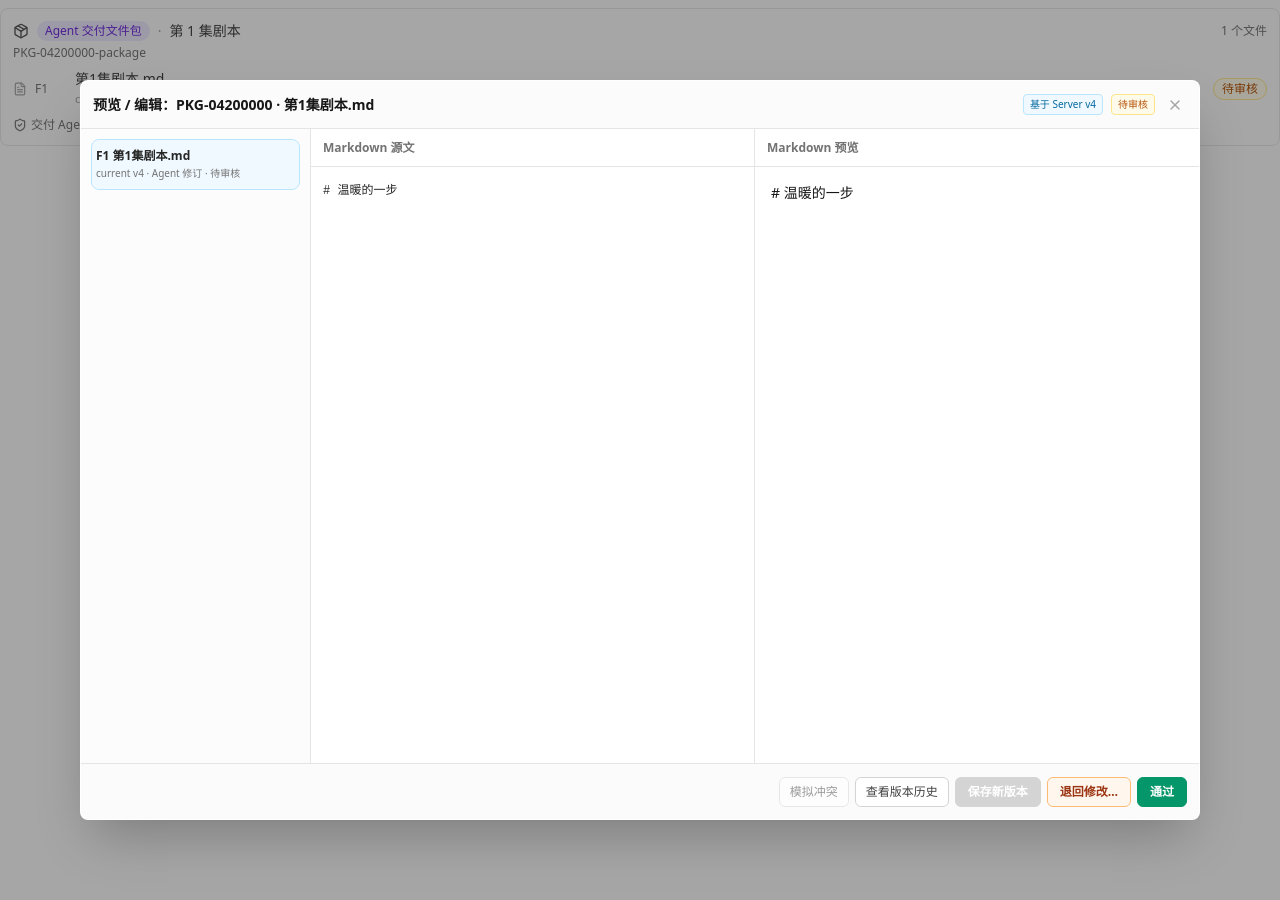
OutputPackagePreviewModal 原型收敛 › 讨论串浮窗审核完成并关闭后，文件包卡片同步显示最新审核状态
expect the text box named "Markdown 源文" is shown: met, box [311,167,754,763]
expect the text "待审核" below "个文件" is shown: met, box [1222,80,1258,97]
Click the button "通过" at (1162, 792), box [1137,776,1187,806]
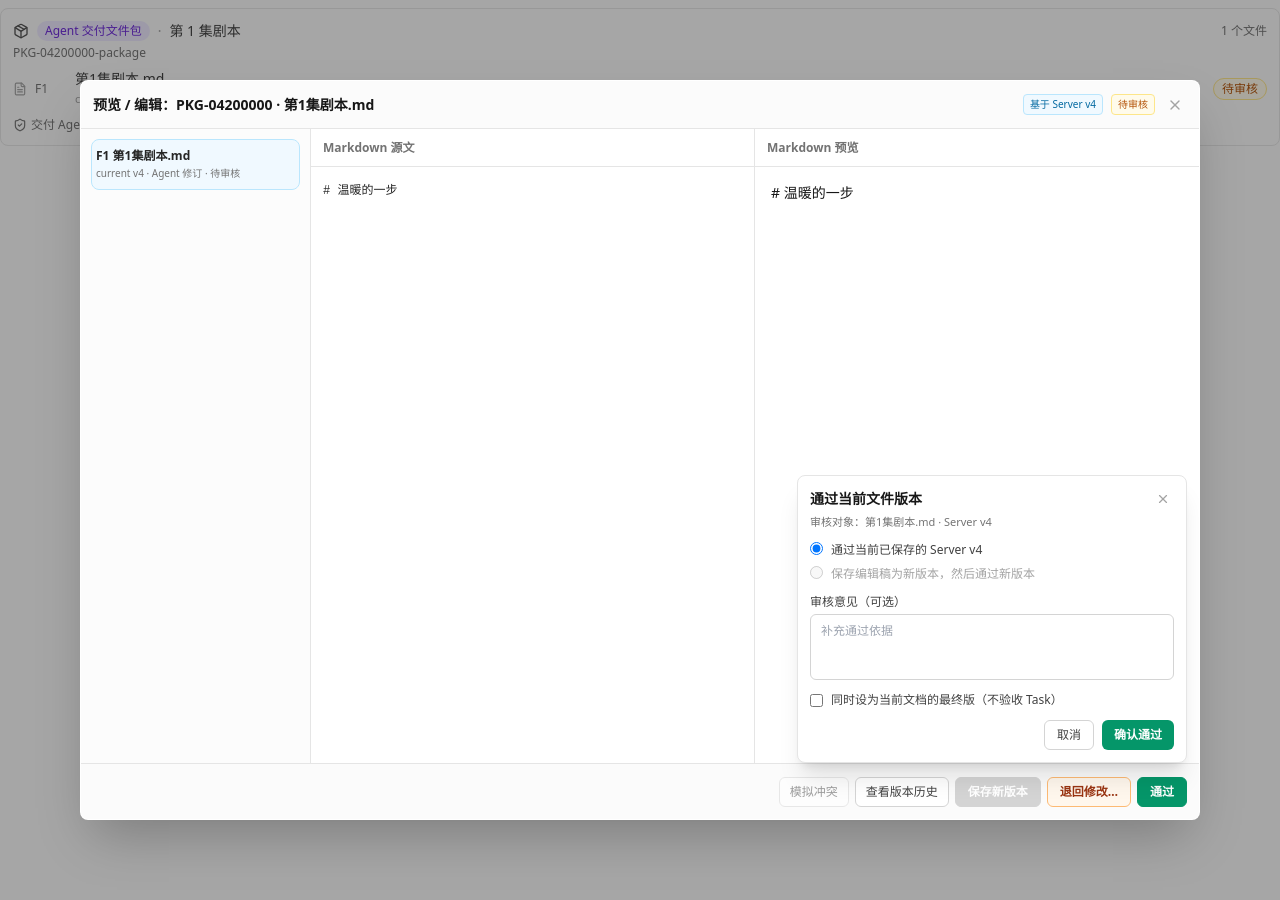
Click the button "确认通过" at (1138, 735), box [1102,720,1174,750]
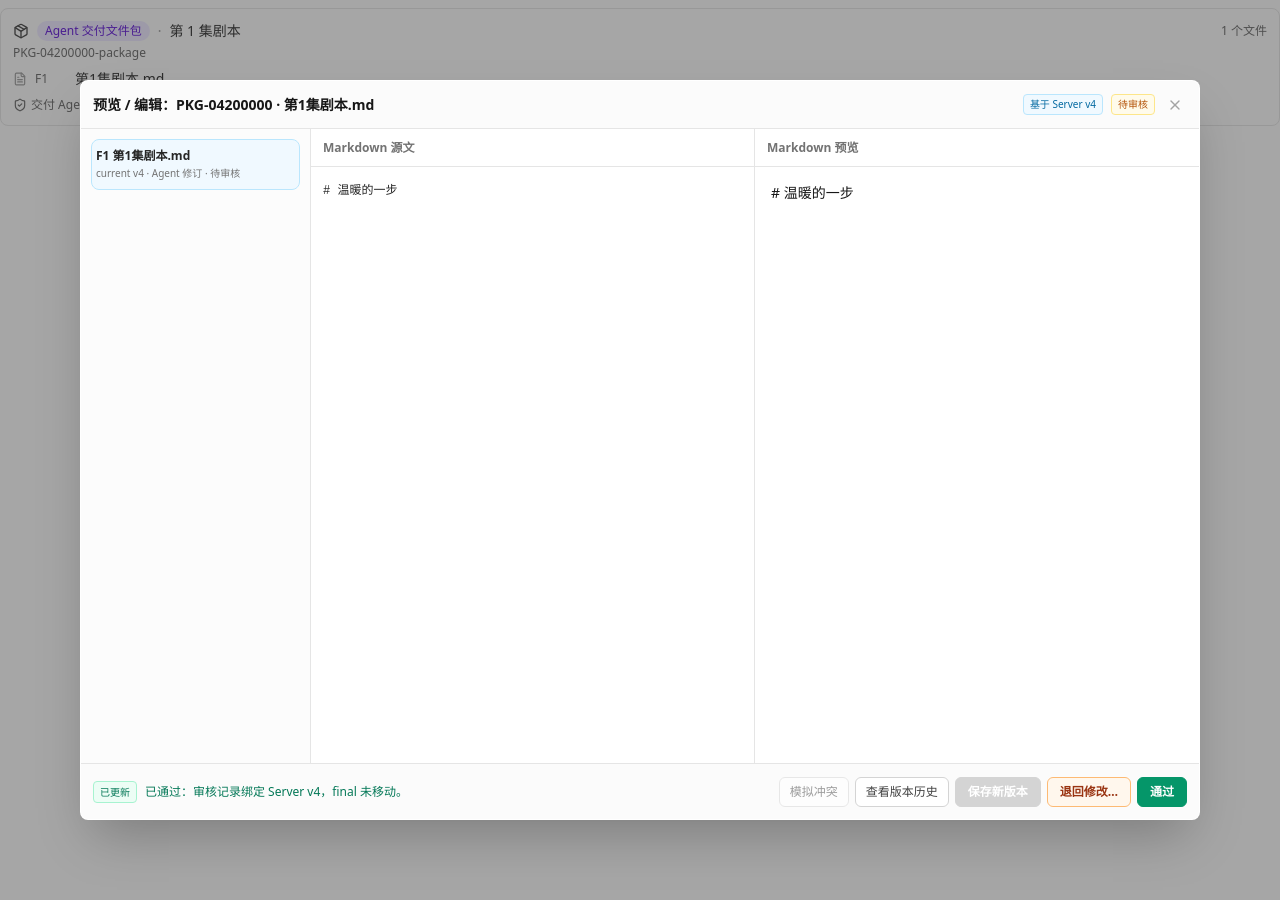
expect the text "已通过：审核记录绑定 Server v4，final 未移动。" is shown: met, box [145,784,408,800]
Click the button titled "关闭" at (1175, 104), box [1163,92,1187,116]
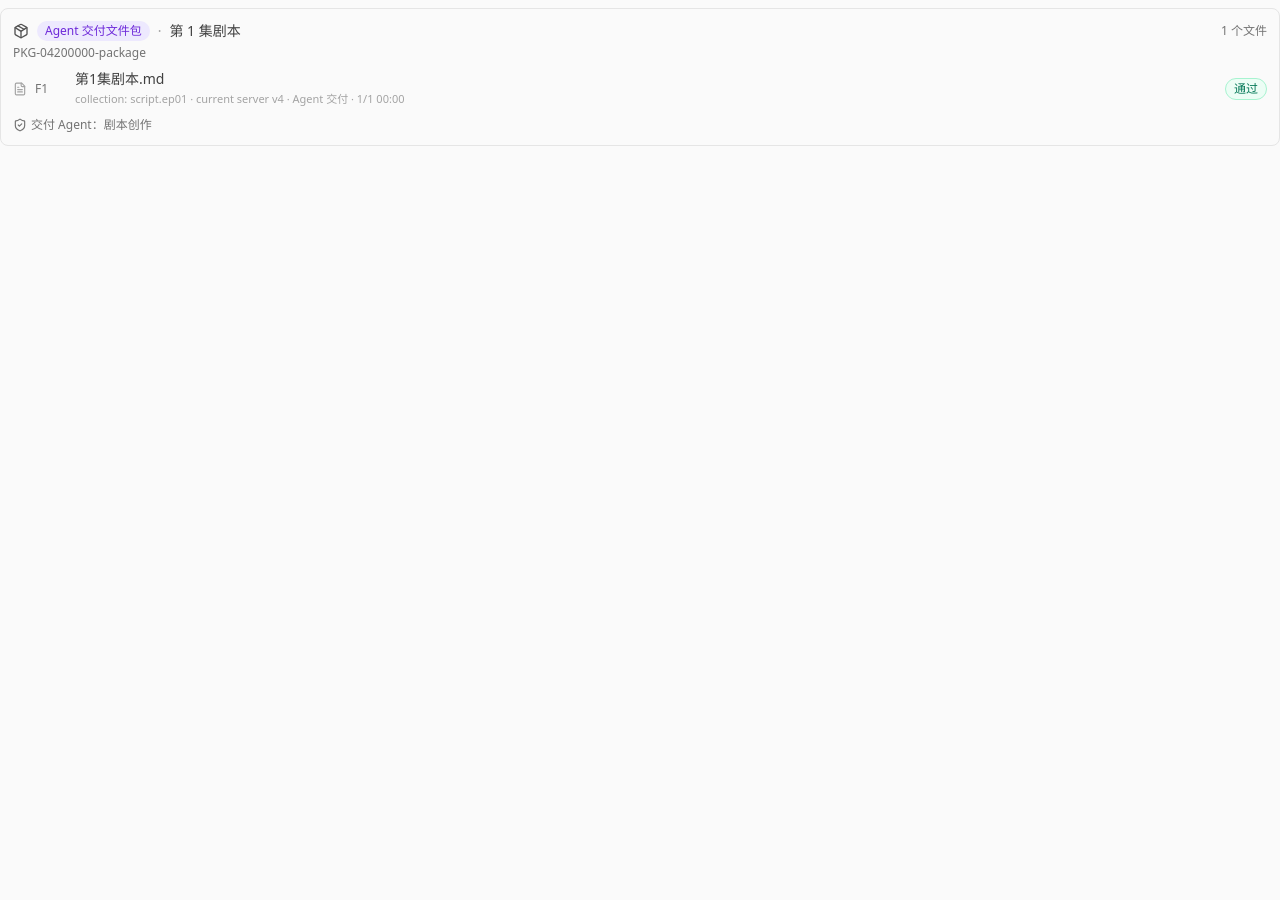
expect the text "通过" is shown: met, box [1225,78,1267,100]
expect the dialog is gone: met
